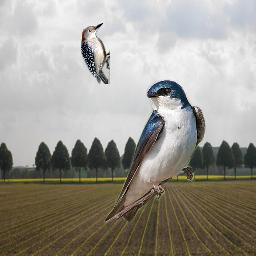Swallow: (104, 78, 206, 224)
Woodpecker: (81, 23, 110, 84)
